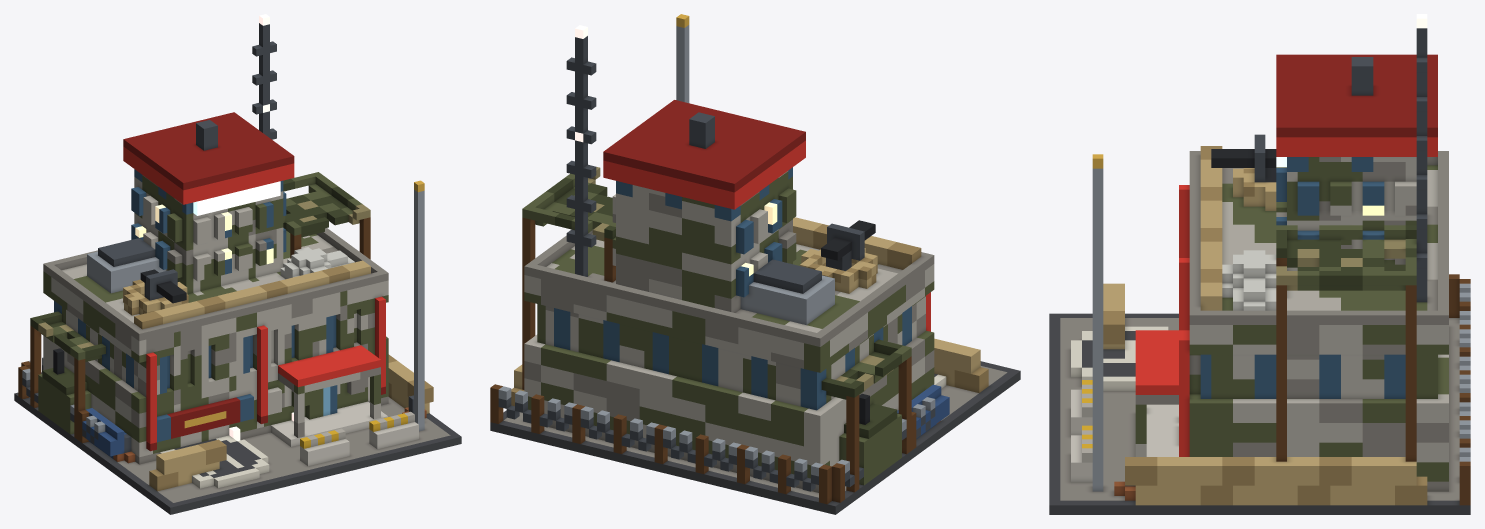
3 views of the same model, side by side, from view 1: azimuth 30°, elevation 25°; view 2: azimuth 150°, elevation 25°; view 3: azimuth 270°, elevation 25° (orthographic). The views are drawn at different scales.
Parts seen in each view (by area): view 1: cm_hq_0_body; view 2: cm_hq_0_body; view 3: cm_hq_0_body.
Part boxes in pixels (x1,y1,x2,y2): cm_hq_0_body: (14, 14, 461, 514); cm_hq_0_body: (490, 14, 1020, 514); cm_hq_0_body: (1049, 14, 1470, 514).
Bounding box in the file's own units: 2.62 × 2.94 × 2.44.
1 material, 1 textured.
